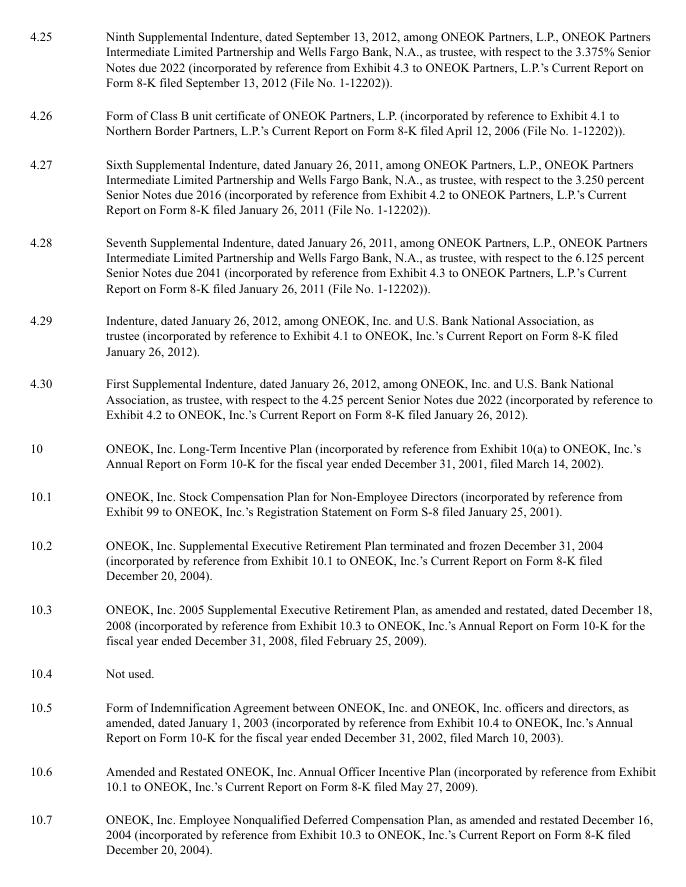table: (29, 28, 654, 856)
table column: (78, 28, 654, 856), (29, 28, 78, 856)
table row: (29, 146, 654, 225), (29, 225, 654, 303), (29, 28, 654, 97), (29, 527, 654, 592), (29, 366, 654, 430), (29, 689, 654, 753), (29, 303, 654, 366), (29, 592, 654, 655), (29, 802, 654, 856), (29, 97, 654, 146), (29, 430, 654, 479), (29, 753, 654, 802), (29, 479, 654, 527), (29, 655, 654, 689)
